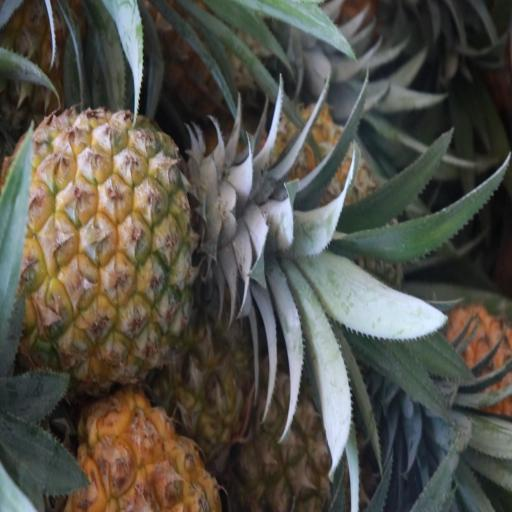Pineapple - v8 v1: (11, 110, 214, 367), (43, 369, 222, 512), (224, 319, 350, 512)
